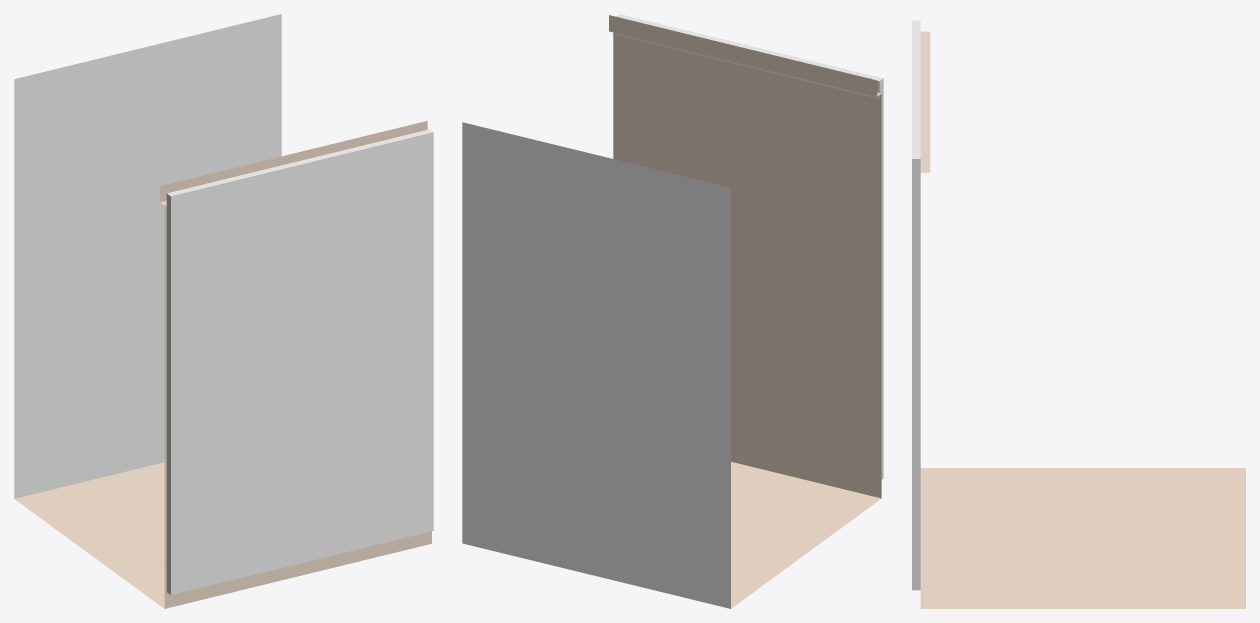
File: KTCH_ELIX_Cabinet_False_60_60_90.FBX
3 renders of one model, left to right at view 1: azimuth 30°, elevation 25°; view 2: azimuth 150°, elevation 25°; view 3: azimuth 270°, elevation 25°, orthographic. The views are drawn at different scales.
Visible parts, largest first — view 1: KTCH_ELIX_Cabinet_False_60_60_90; view 2: KTCH_ELIX_Cabinet_False_60_60_90; view 3: KTCH_ELIX_Cabinet_False_60_60_90.
Part boxes in pixels (x1=…): KTCH_ELIX_Cabinet_False_60_60_90: x1=14, y1=14, x2=433, y2=608; KTCH_ELIX_Cabinet_False_60_60_90: x1=462, y1=14, x2=883, y2=608; KTCH_ELIX_Cabinet_False_60_60_90: x1=912, y1=20, x2=1245, y2=608.
Size of the model in its own units: 60 by 60 by 90.
